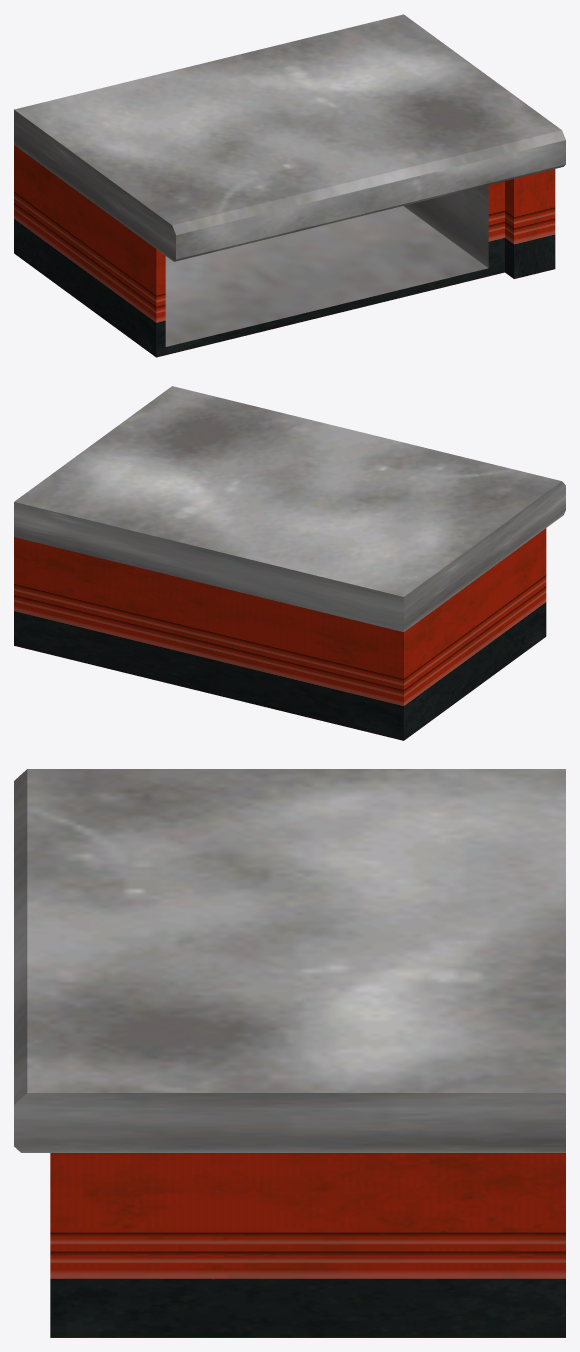
The model's file is hornoStructure.obj.
3 views of the same model, one above another, from view 1: azimuth 30°, elevation 25°; view 2: azimuth 150°, elevation 25°; view 3: azimuth 270°, elevation 25° (orthographic). The views are drawn at different scales.
Visible parts, largest first — view 1: polySurface28; view 2: polySurface28; view 3: polySurface28.
Part boxes in pixels (box(x1,y1,x2,y2)): polySurface28: box(14, 14, 565, 357); polySurface28: box(14, 386, 565, 740); polySurface28: box(14, 769, 565, 1337).
Bounding box in the file's own units: 0.9868 × 0.3481 × 0.7107.
Materials: 3 (2 with a texture image).
